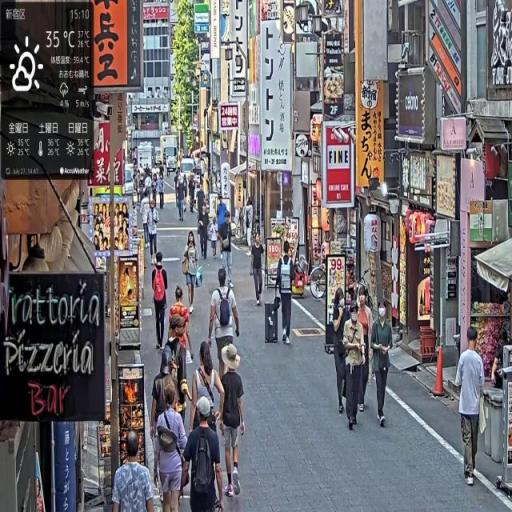person: (180, 398, 225, 512), (154, 379, 190, 512), (457, 327, 486, 488), (219, 345, 247, 500), (207, 265, 241, 388), (113, 428, 156, 512), (328, 285, 352, 420), (343, 305, 368, 432), (371, 301, 395, 429), (275, 244, 297, 346), (357, 288, 374, 410), (152, 251, 170, 351), (183, 231, 202, 312), (218, 209, 235, 292), (250, 232, 266, 308), (148, 199, 160, 261)
